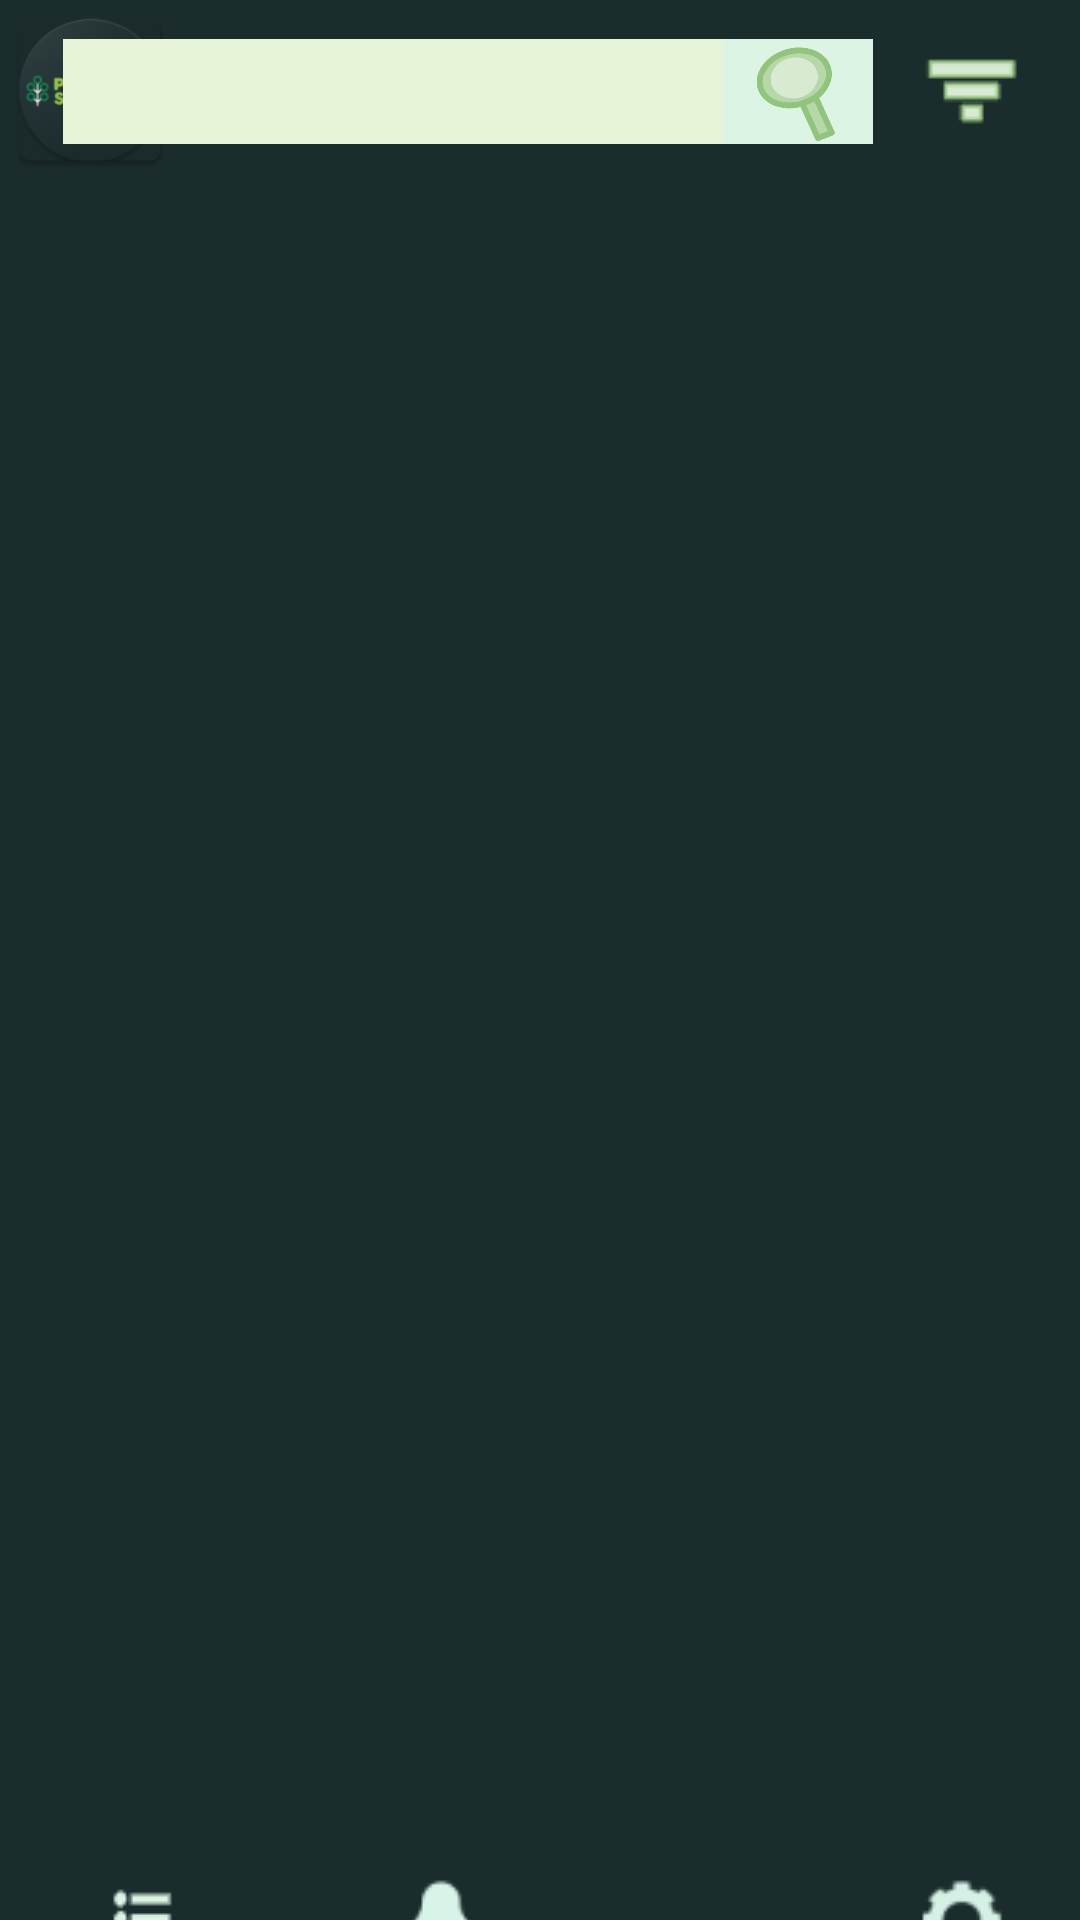

Named icons in this screenshot (1080×1920) and their centers, (x,y):
filtro: (972,91)
search: (798,91)
